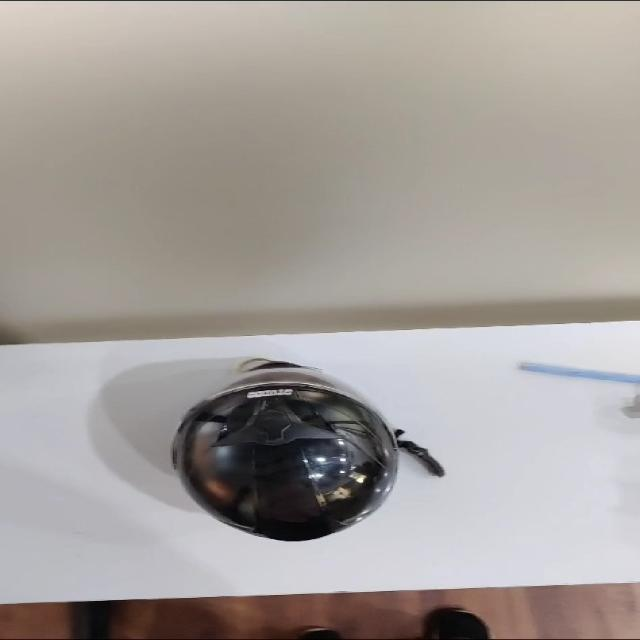helmet: (173, 358, 443, 540)
